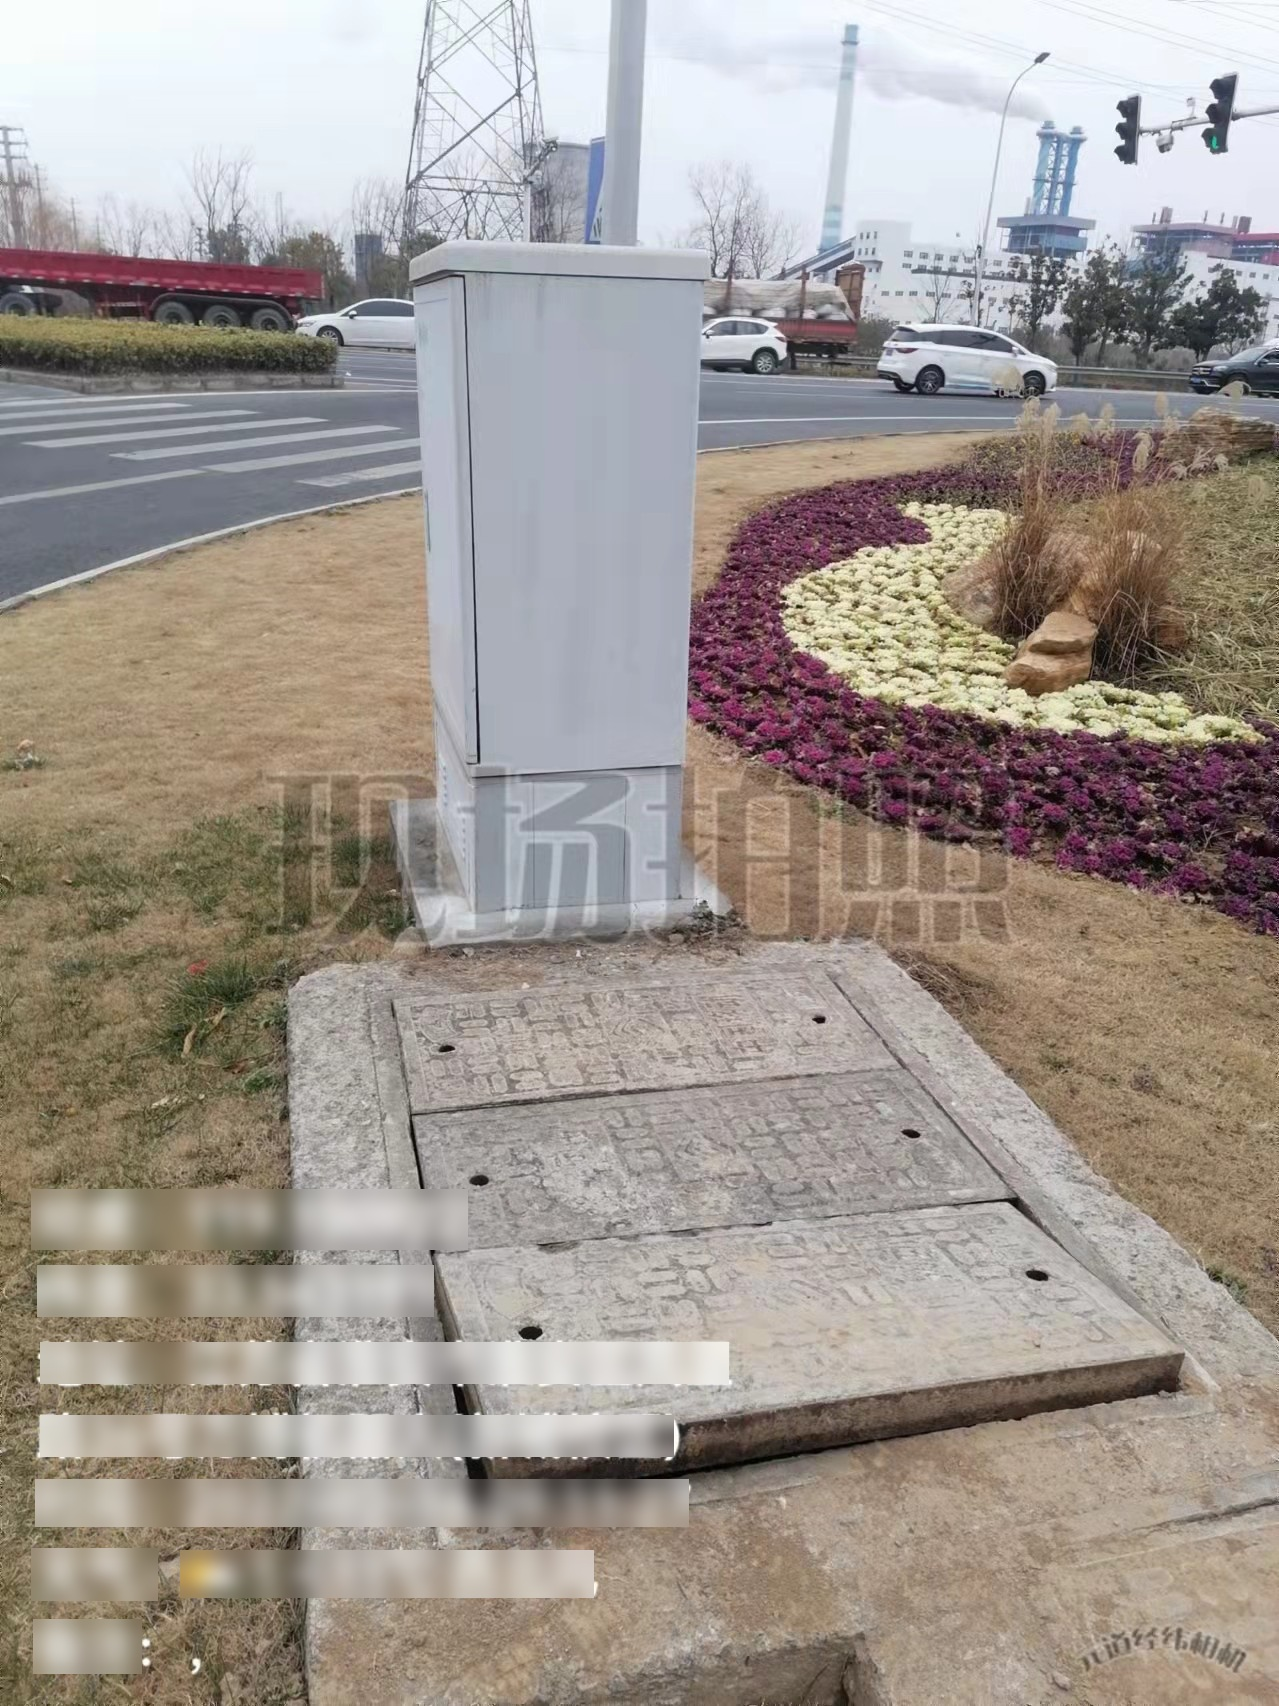uncovered: (367, 954, 1223, 1533)
